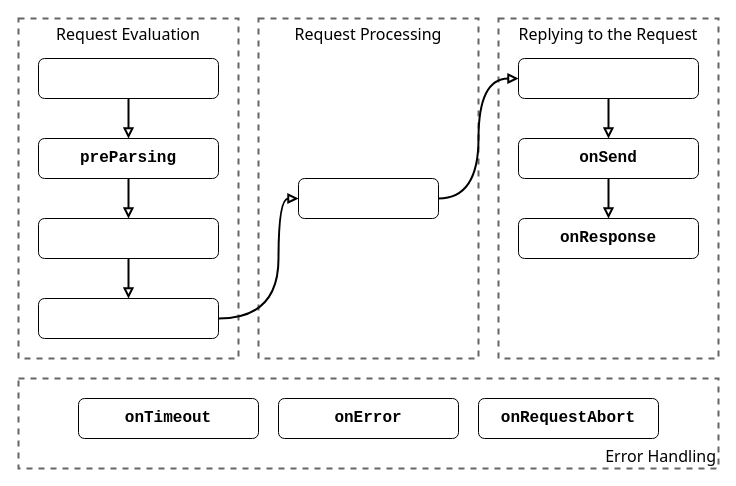
The diagram is 736 pixels wide and 486 high, and some of its shapes have lost their labels. The shapes that lost their labels are listed below. From the top down, each one's centre as x and y in pixels, then its label:
At [128,78]: "onRequest".
At [608,78]: "preSerialization".
At [368,198]: "Route handler".
At [128,238]: "preValidation".
At [128,318]: "preHandler".
